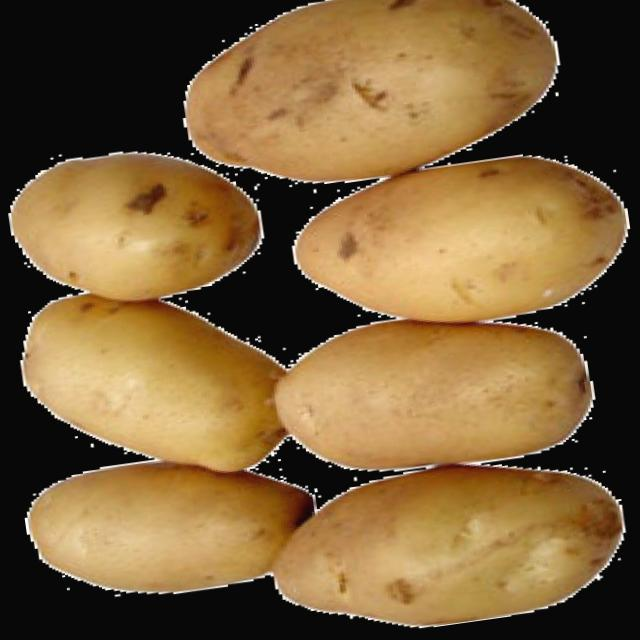potato: (171, 0, 570, 206), (284, 141, 638, 350), (252, 443, 626, 640), (6, 266, 294, 502), (265, 297, 599, 485), (22, 440, 321, 618), (0, 132, 267, 320)
